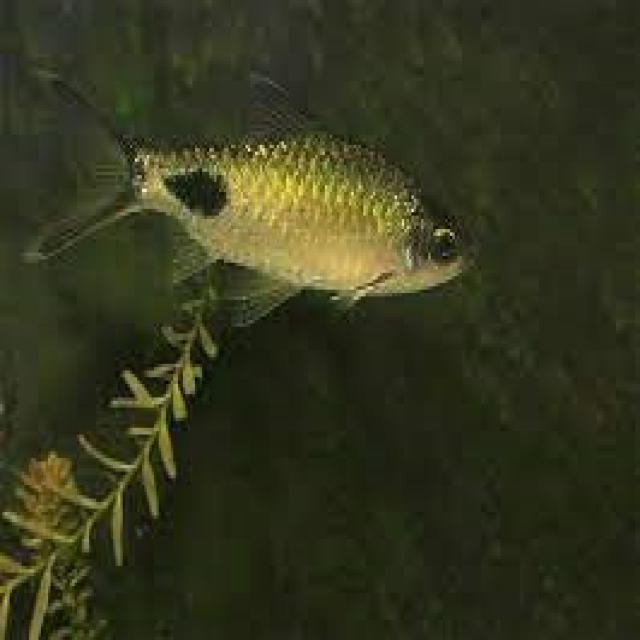Black-Spotted-Barb: (19, 27, 524, 419)
